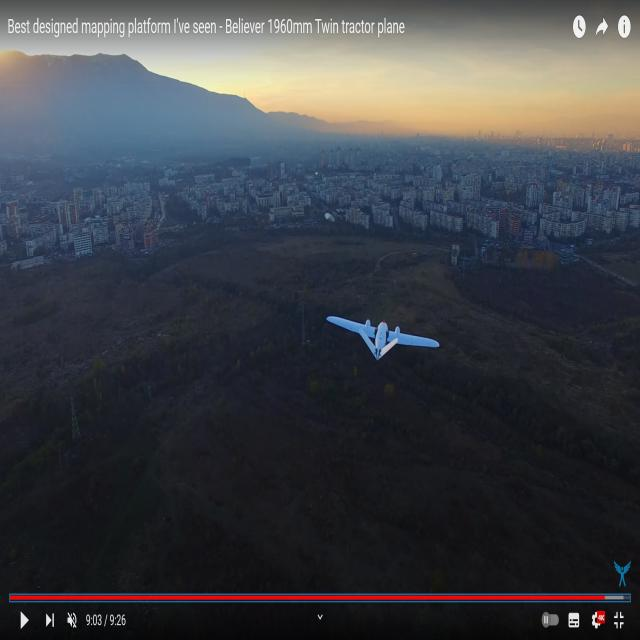iha: (361, 311, 408, 363)
